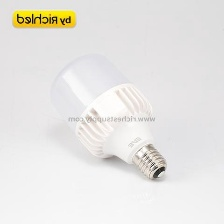light_bulb: (46, 49, 171, 181)
